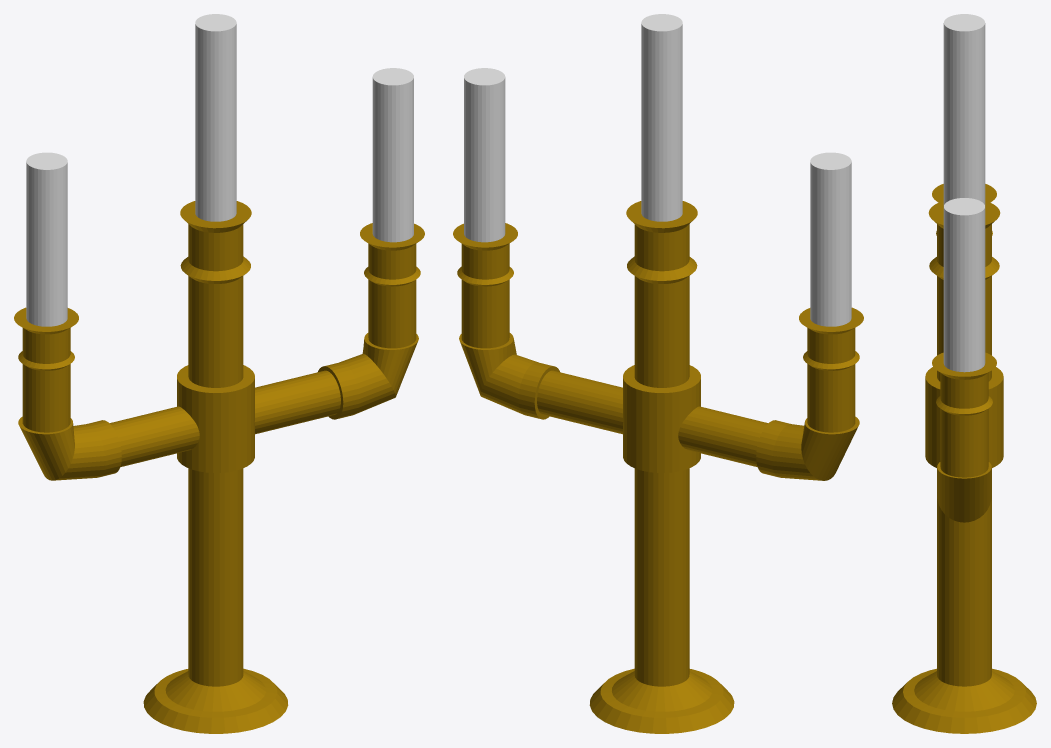
The model's file is lilin.fbx.
The picture shows the model from 3 angles, left to right: view 1: azimuth 30°, elevation 25°; view 2: azimuth 150°, elevation 25°; view 3: azimuth 270°, elevation 25°; orthographic projection.
Parts seen in each view (by area): view 1: Cylinder, Cylinder.006, Cylinder.001, Cylinder.008, Cylinder.007, Cylinder.005, Cylinder.004, Cylinder.002, Cylinder.003; view 2: Cylinder, Cylinder.006, Cylinder.001, Cylinder.008, Cylinder.007, Cylinder.005, Cylinder.004, Cylinder.002, Cylinder.003; view 3: Cylinder, Cylinder.006, Cylinder.007, Cylinder.005, Cylinder.003, Cylinder.004.
Boxes of the visible parts, <box> form: Cylinder: <box>143,201,288,733</box>; Cylinder.006: <box>195,14,236,221</box>; Cylinder.001: <box>109,370,340,466</box>; Cylinder.008: <box>26,152,67,326</box>; Cylinder.007: <box>372,68,413,242</box>; Cylinder.005: <box>360,223,424,348</box>; Cylinder.004: <box>14,307,78,432</box>; Cylinder.002: <box>18,416,121,480</box>; Cylinder.003: <box>318,333,418,419</box>; Cylinder: <box>589,201,734,733</box>; Cylinder.006: <box>641,14,682,221</box>; Cylinder.001: <box>537,370,768,466</box>; Cylinder.008: <box>810,152,851,326</box>; Cylinder.007: <box>464,68,505,242</box>; Cylinder.005: <box>453,223,517,348</box>; Cylinder.004: <box>799,307,863,432</box>; Cylinder.002: <box>756,416,859,480</box>; Cylinder.003: <box>459,333,559,419</box>; Cylinder: <box>892,201,1036,733</box>; Cylinder.006: <box>943,14,985,206</box>; Cylinder.007: <box>943,198,985,372</box>; Cylinder.005: <box>932,352,996,477</box>; Cylinder.003: <box>937,462,991,522</box>; Cylinder.004: <box>932,184,996,235</box>.
Bounding box in the file's own units: 460 × 743 × 143.
6 materials, 6 textured.
